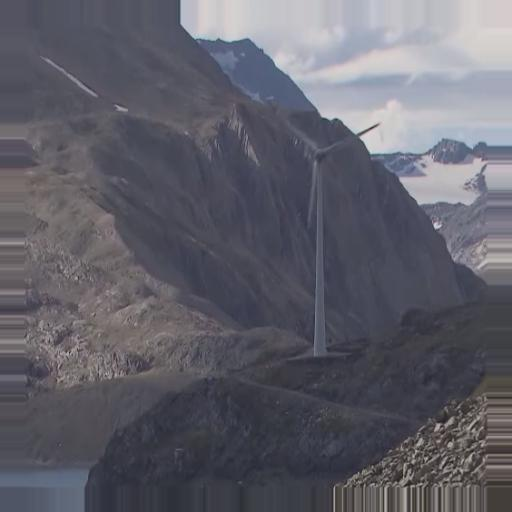wind turbine: (276, 118, 383, 358)
